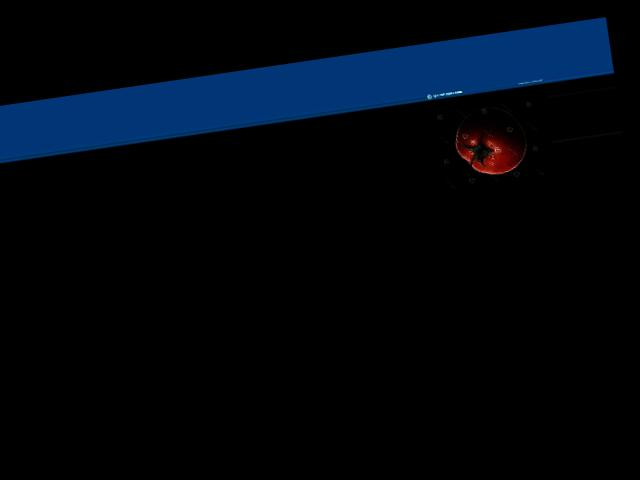tomato: (451, 102, 531, 179)
